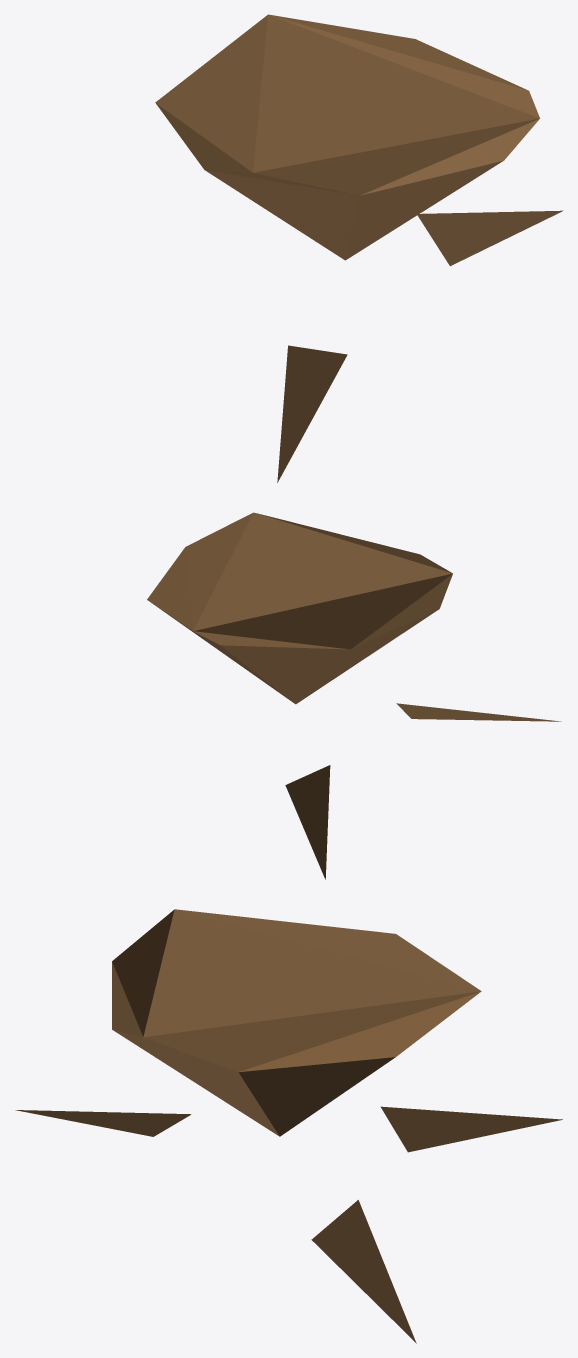
File: log_stump_lod2.glb
The picture shows the model from 3 angles, top to bottom: view 1: azimuth 30°, elevation 25°; view 2: azimuth 150°, elevation 25°; view 3: azimuth 270°, elevation 25°; orthographic projection. The views are drawn at different scales.
Parts seen in each view (by area): view 1: log_stump_lod2; view 2: log_stump_lod2; view 3: log_stump_lod2.
Boxes of the visible parts, box(x1,y1,x2,y2) form: log_stump_lod2: box(155, 14, 563, 482); log_stump_lod2: box(147, 512, 561, 879); log_stump_lod2: box(15, 909, 562, 1343).
Bounding box in the file's own units: 1.19 × 0.5409 × 1.18.
